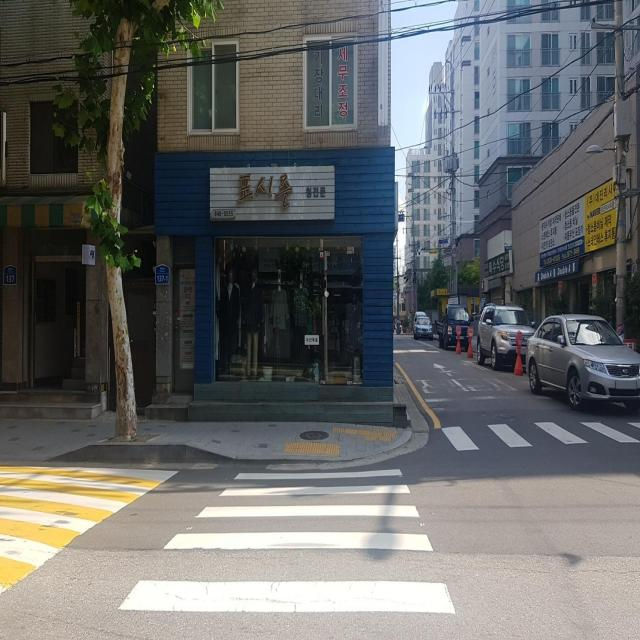횡단보도: (116, 465, 457, 618), (445, 413, 640, 455)
